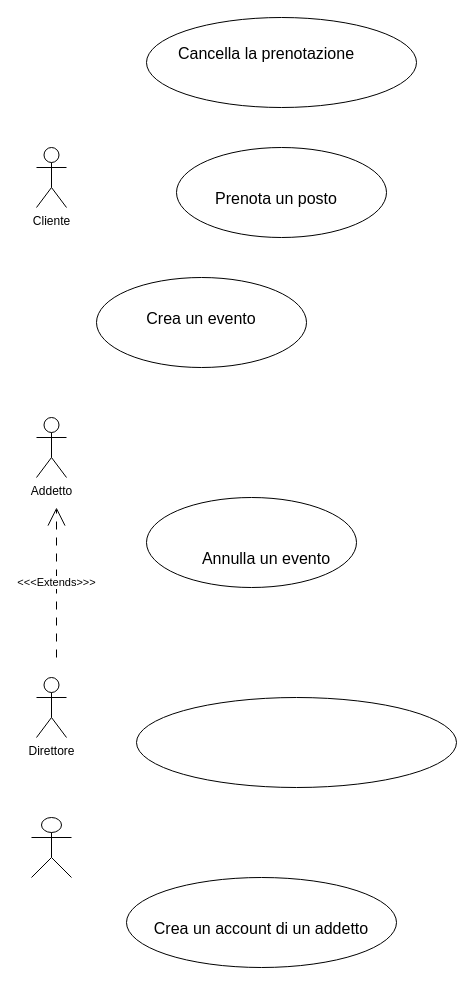
The diagram is 474 pixels wide and 985 high, and some of its shapes have lost their labels. Here are the shapes that lost their labels. From the top down, the centre of each, then its label:
At [296,742]: "registrazione di un utente".
At [51,847]: "Utente".
